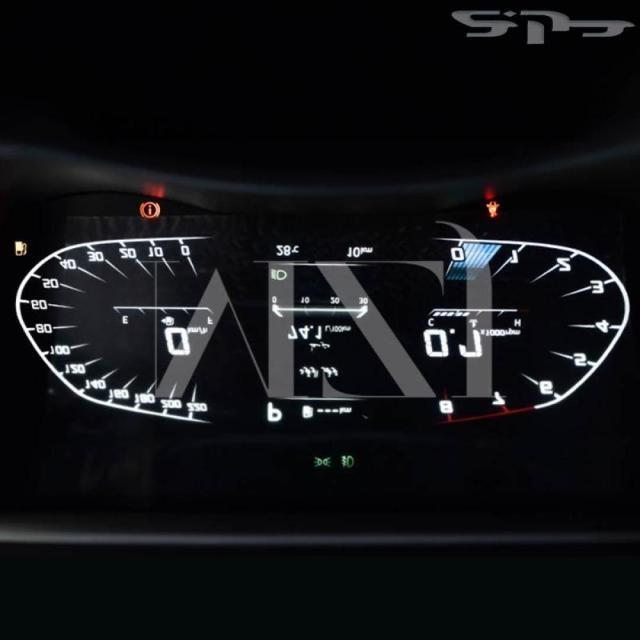Seat Belt: (484, 201, 500, 218)
